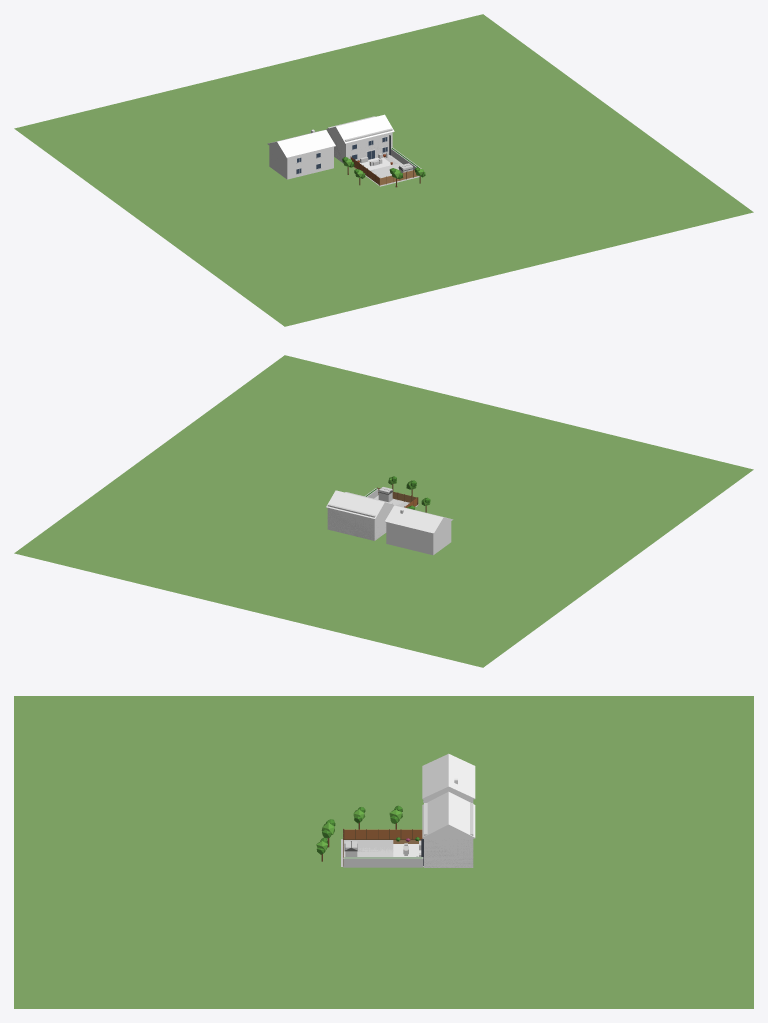
The model's file is job2.glb.
3 renders of one model, top to bottom at view 1: azimuth 30°, elevation 25°; view 2: azimuth 150°, elevation 25°; view 3: azimuth 270°, elevation 25°, orthographic. The views are drawn at different scales.
Parts seen in each view (by area): view 1: j2_bg; view 2: j2_bg, j2_col_1; view 3: j2_bg, j2_col_6, j2_w_fence, j2_col_1.
Part boxes in pixels (x1=…): j2_bg: x1=14, y1=14, x2=753, y2=326; j2_bg: x1=14, y1=355, x2=753, y2=667; j2_col_1: x1=327, y1=492, x2=392, y2=540; j2_bg: x1=14, y1=696, x2=753, y2=1008; j2_col_6: x1=343, y1=857, x2=423, y2=867; j2_w_fence: x1=343, y1=829, x2=422, y2=839; j2_col_1: x1=424, y1=803, x2=473, y2=867.
Bounding box in the file's own units: 120 × 8.02 × 120.
